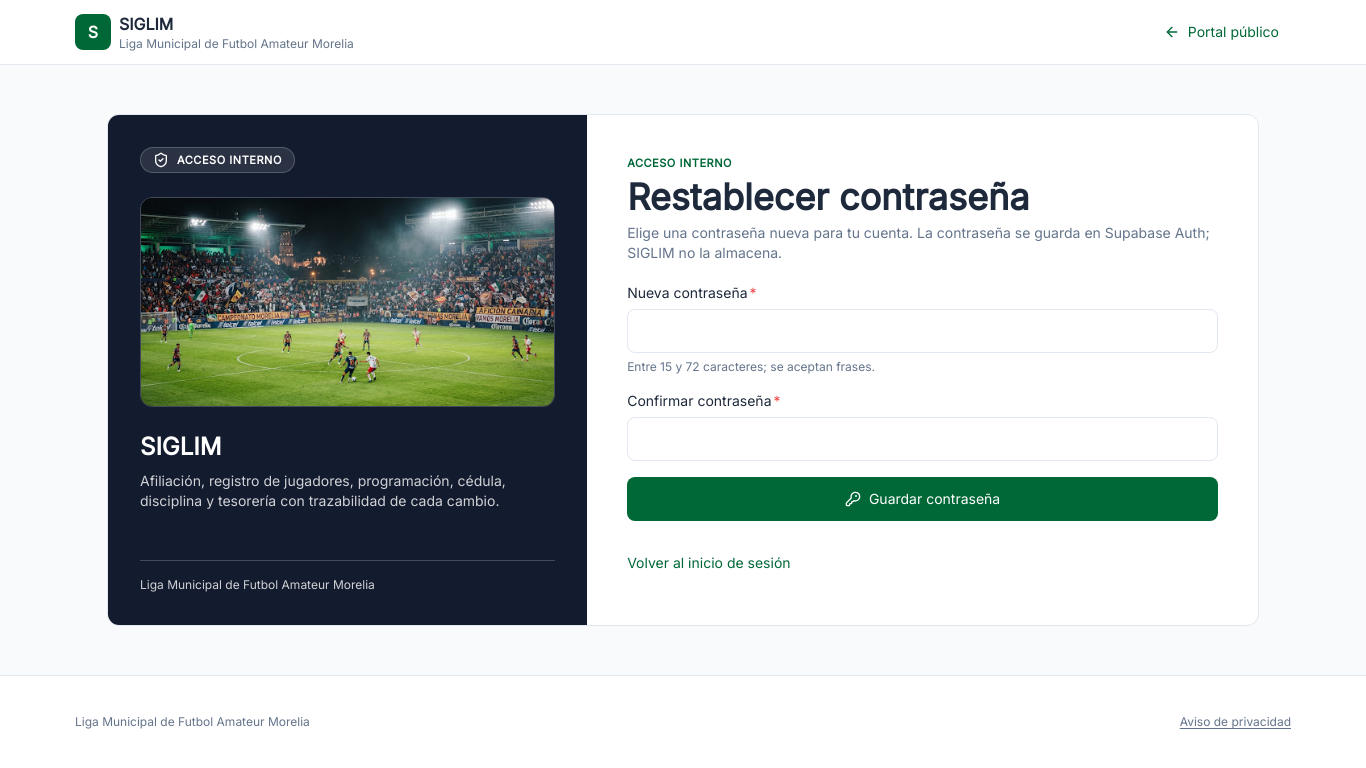
RestablecerContrasena › H-01.2: rechaza contraseñas que no coinciden
Type "frase secreta larga" into the password field labelled "Nueva contraseña*". click: (923, 331)
box: [627,309,1218,353]
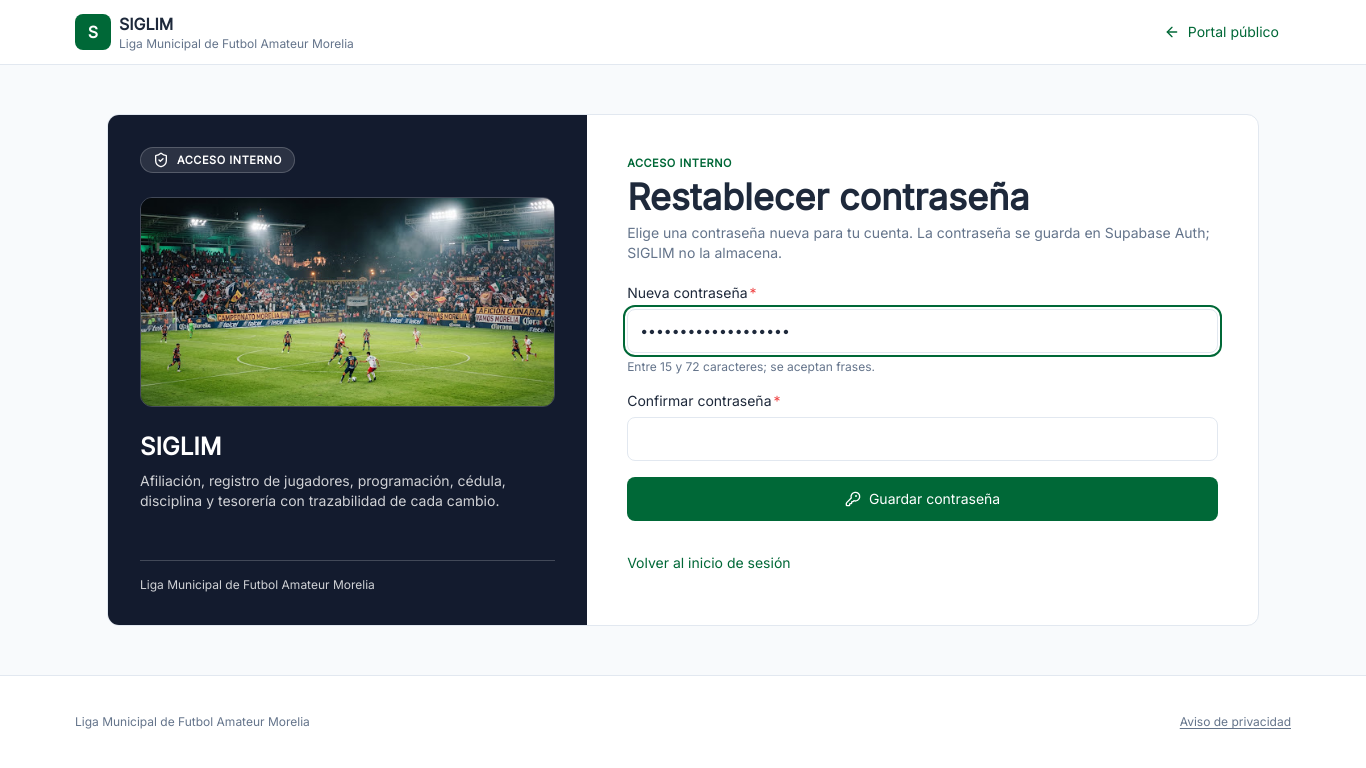
Type "otra frase distinta" into the password field labelled "Confirmar contraseña*". click: (923, 439)
box: [627,417,1218,461]
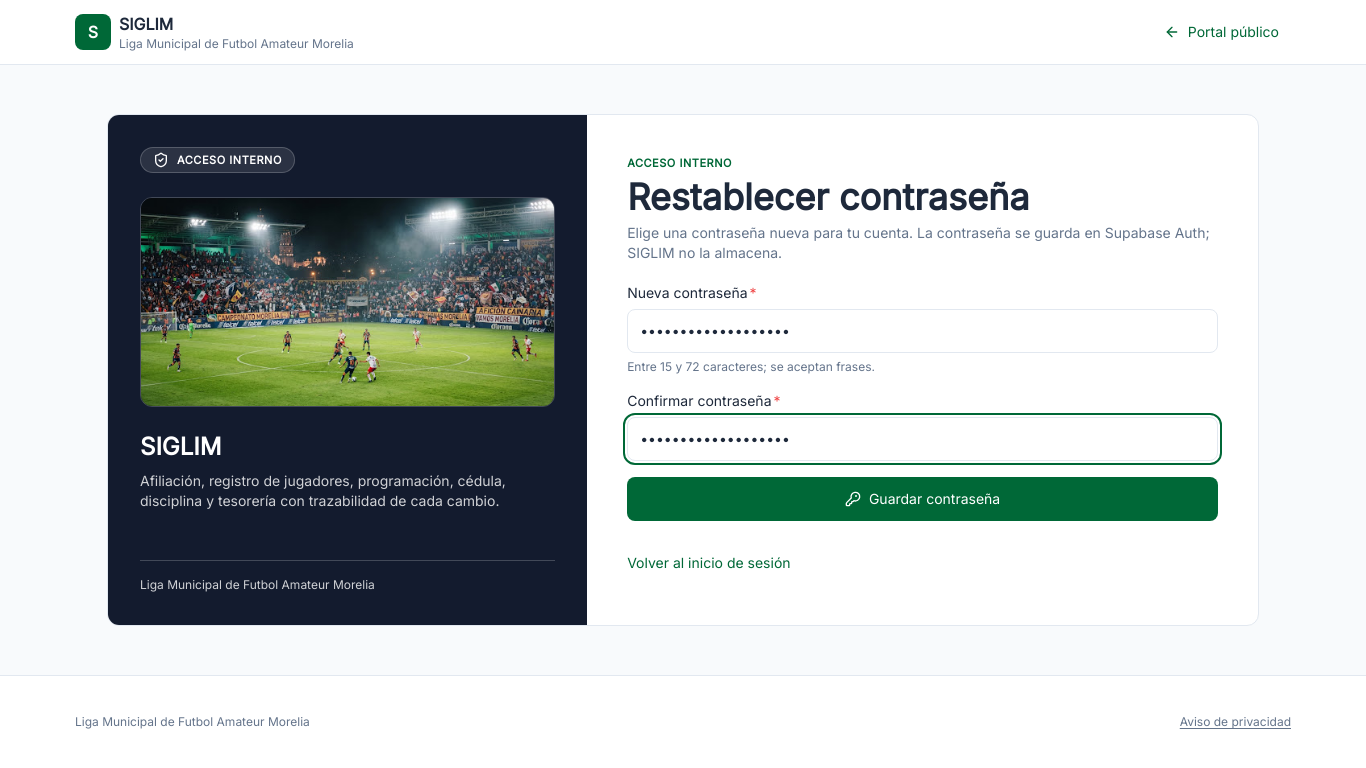
Click the button "Guardar contraseña". click: (923, 499)
box: [627,477,1218,521]
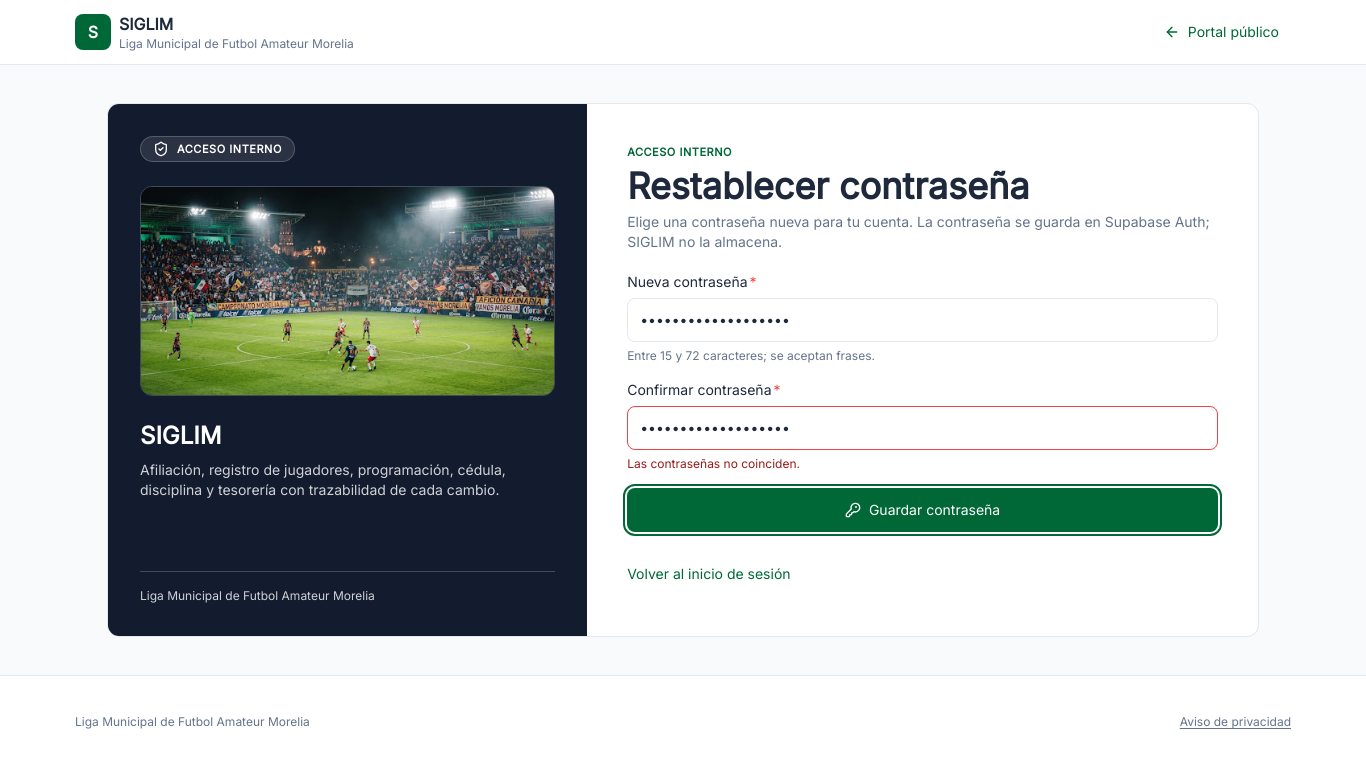
Expected: the text "Las contraseñas no coinciden." is shown, [627,456,800,471]
